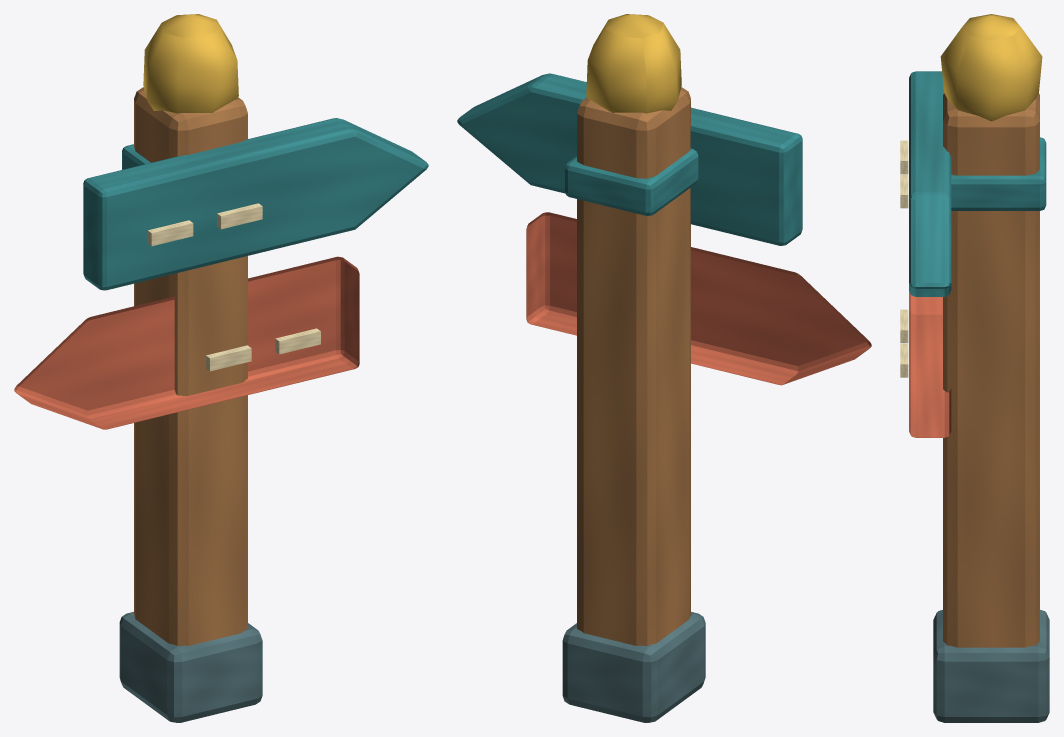
Rendered from camp-signpost.glb.
3 renders of one model, left to right at view 1: azimuth 30°, elevation 25°; view 2: azimuth 150°, elevation 25°; view 3: azimuth 270°, elevation 25°, orthographic.
Visible parts, largest first — view 1: camp-signpost-mesh; view 2: camp-signpost-mesh; view 3: camp-signpost-mesh.
Boxes of the visible parts, x1,y1,x2,y2 form: camp-signpost-mesh: [14, 14, 428, 722]; camp-signpost-mesh: [457, 14, 871, 722]; camp-signpost-mesh: [900, 14, 1049, 722].
Bounding box in the file's own units: 1.44 × 2.35 × 0.4625.
1 material, 1 textured.
